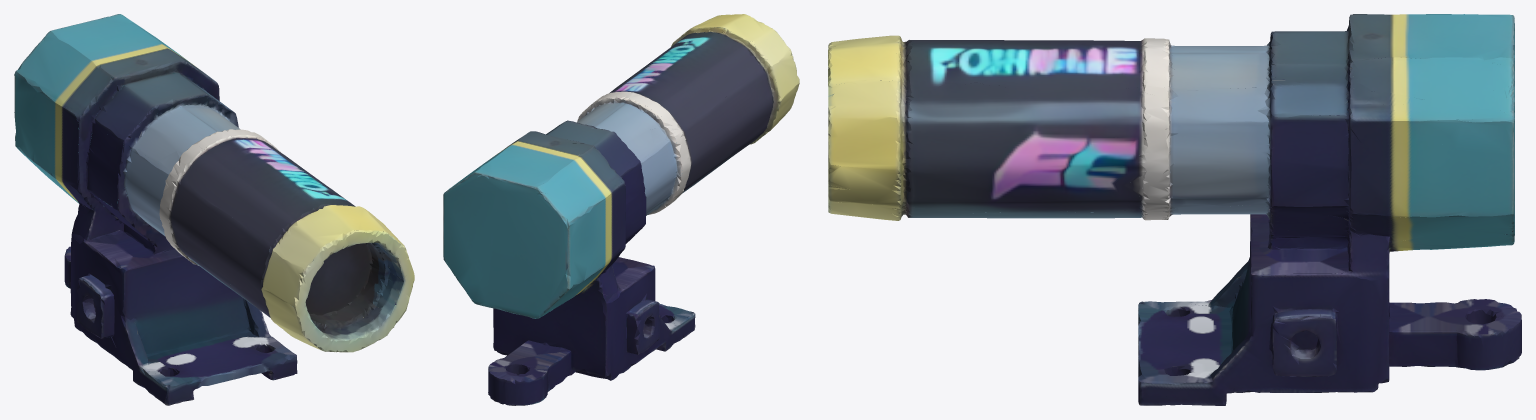
Rendered from formulae_rocket.glb.
The picture shows the model from 3 angles, left to right: view 1: azimuth 30°, elevation 25°; view 2: azimuth 150°, elevation 25°; view 3: azimuth 270°, elevation 25°; orthographic projection. The views are drawn at different scales.
Parts seen in each view (by area): view 1: Rocket_Formula_E_x; view 2: Rocket_Formula_E_x; view 3: Rocket_Formula_E_x.
Part boxes in pixels (<box>): Rocket_Formula_E_x: <box>14,14,414,405</box>; Rocket_Formula_E_x: <box>443,14,799,405</box>; Rocket_Formula_E_x: <box>828,14,1521,405</box>.
Bounding box in the file's own units: 0.1978 × 0.3149 × 0.6001.
1 material, 1 textured.
